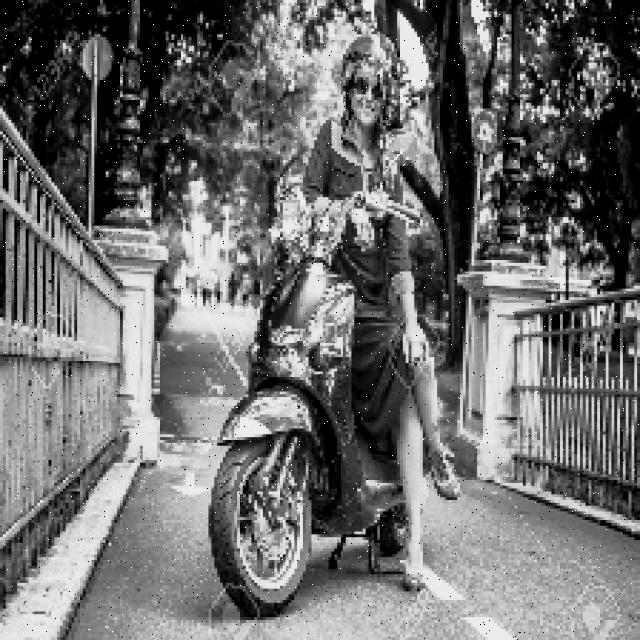Bike: (211, 222, 383, 606)
